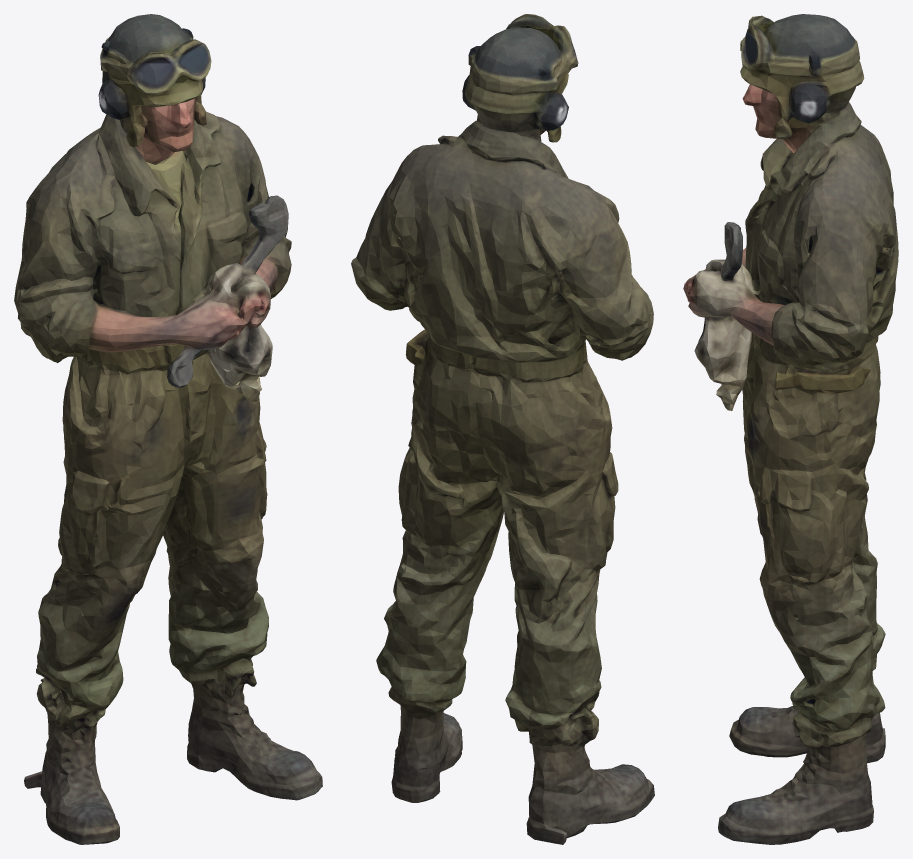
File: crew_us_driver.obj
3 renders of one model, left to right at view 1: azimuth 30°, elevation 25°; view 2: azimuth 150°, elevation 25°; view 3: azimuth 270°, elevation 25°, orthographic.
Visible parts, largest first — view 1: crew_us_driver; view 2: crew_us_driver; view 3: crew_us_driver.
Boxes of the visible parts, <box> form: crew_us_driver: <box>14,14,322,844</box>; crew_us_driver: <box>351,14,654,844</box>; crew_us_driver: <box>683,14,898,844</box>.
Bounding box in the file's own units: 0.6684 × 1.8 × 0.4591.
1 material, 1 textured.
